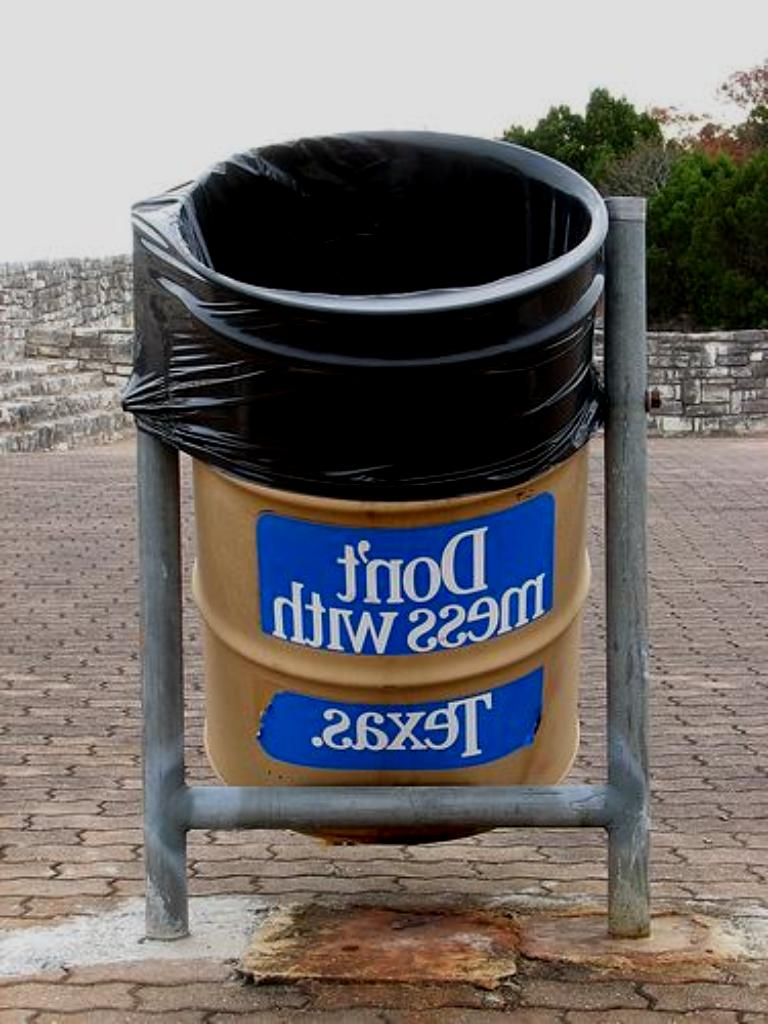dustbin: (125, 123, 623, 974)
